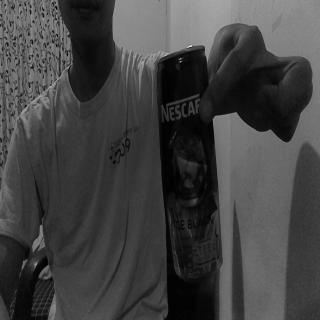alumunium_can: (154, 45, 224, 274)
